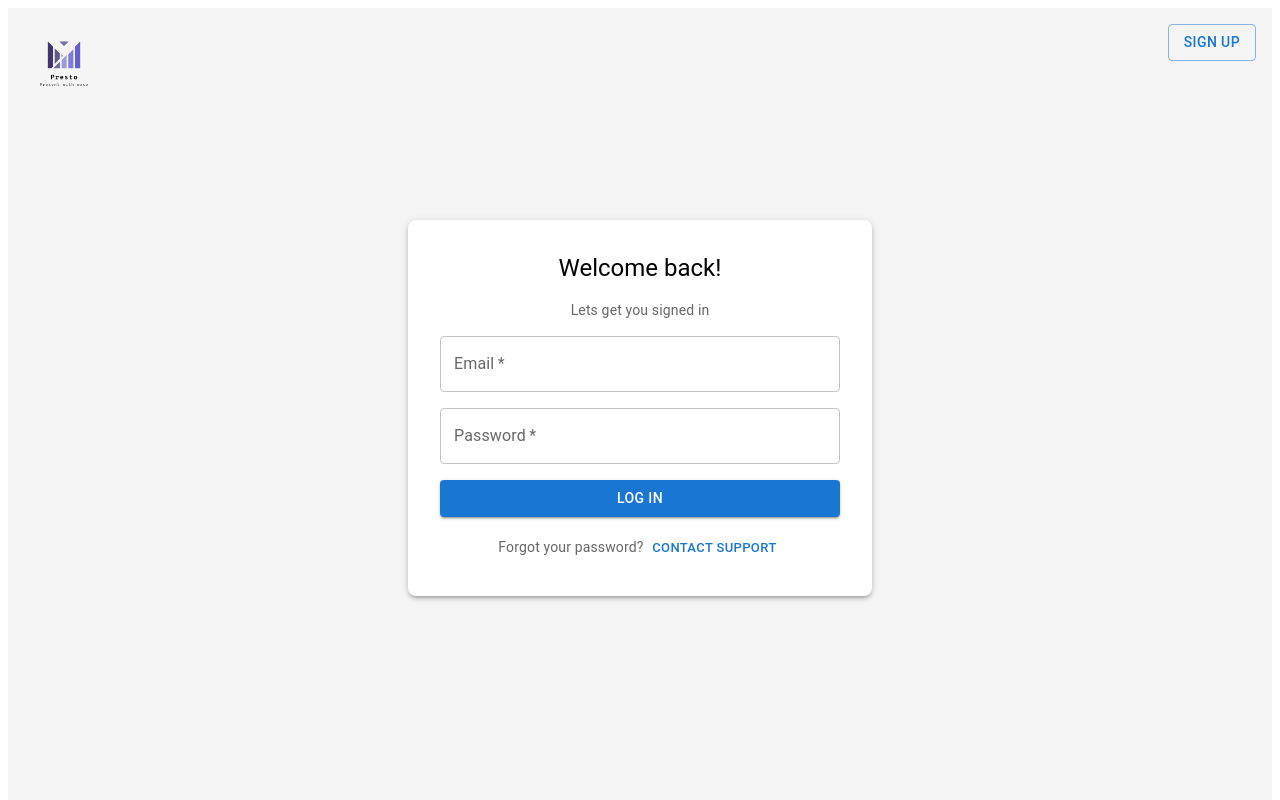
Scenario: SignInForm Component › displays an error message on failed login
This screenshot has width=1280, height=800.
Type "test@example.com" into the field labelled "Email *" at point(640, 364), box top-left (440, 336), bottom-right (840, 392)
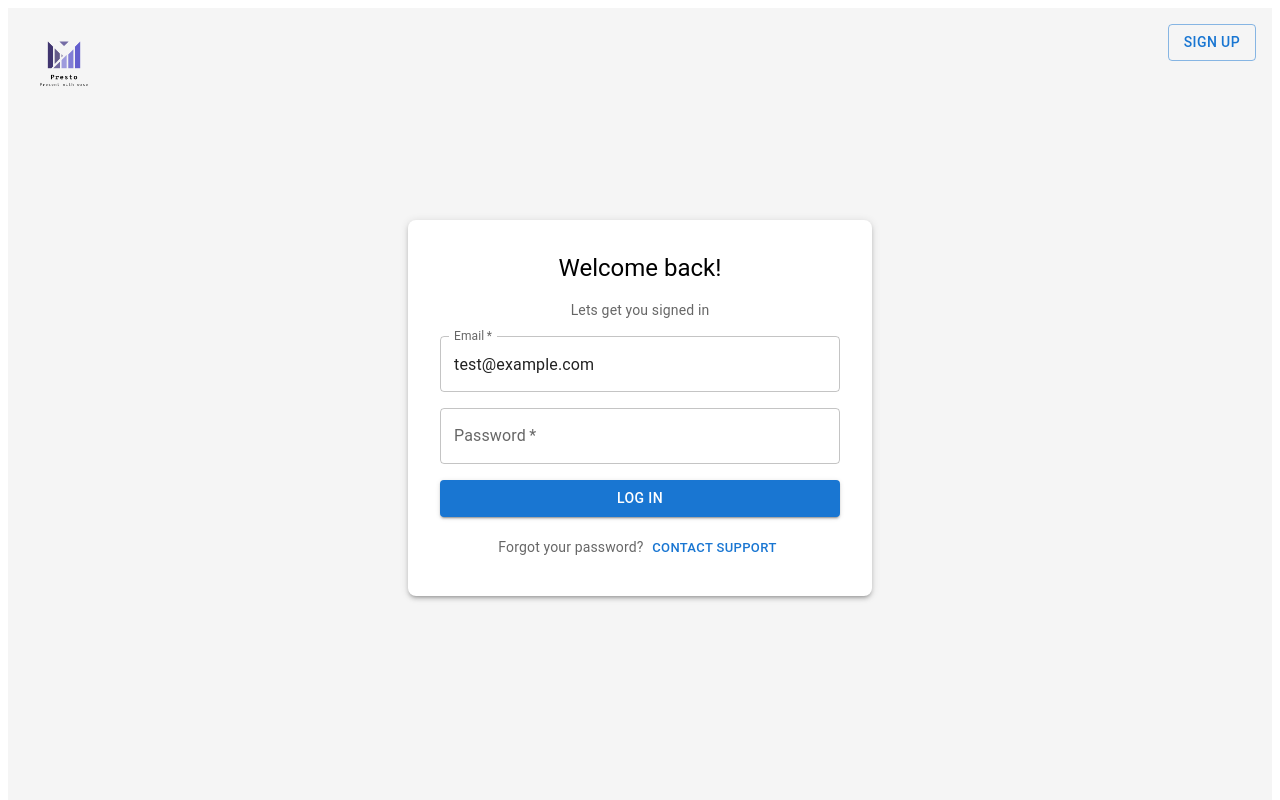
Type "password" into the password field labelled "Password *" at point(640, 436), box top-left (440, 408), bottom-right (840, 464)
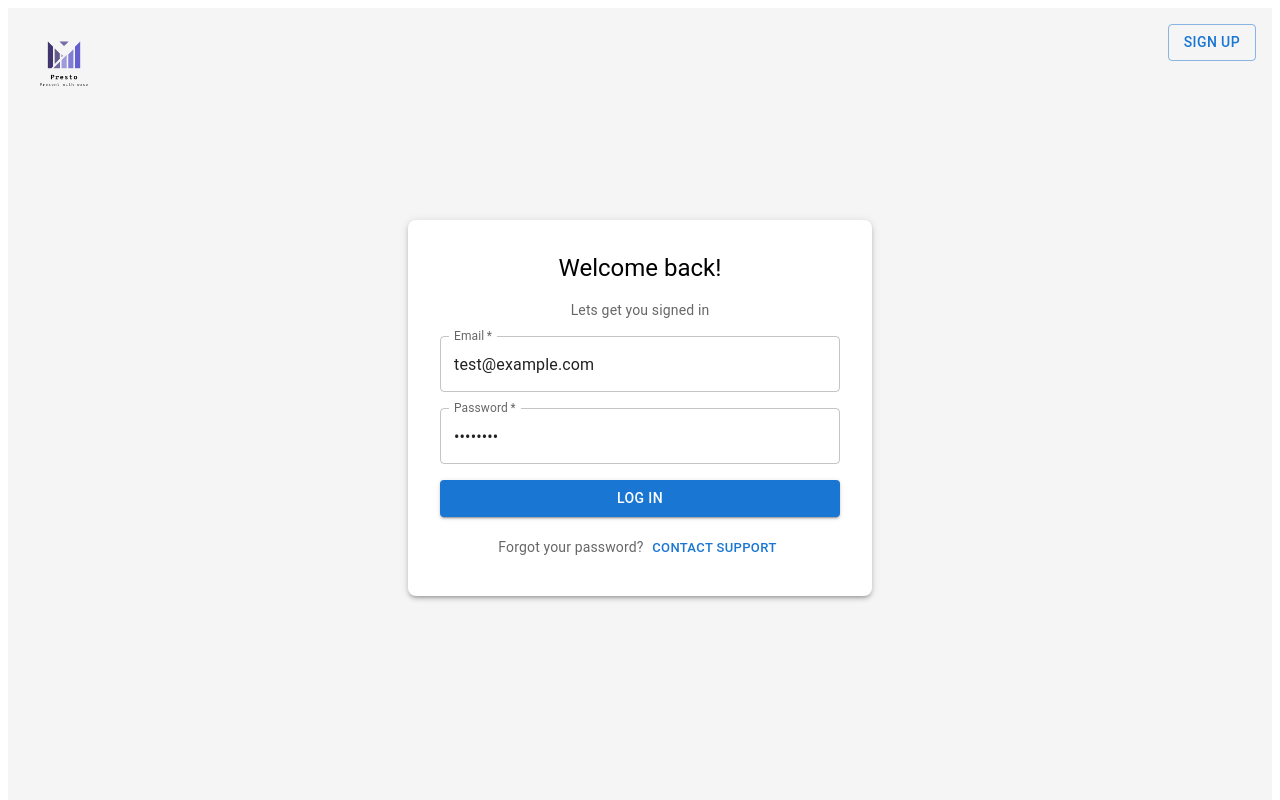
Click the button "Log in" at point(640, 499), box top-left (440, 480), bottom-right (840, 517)
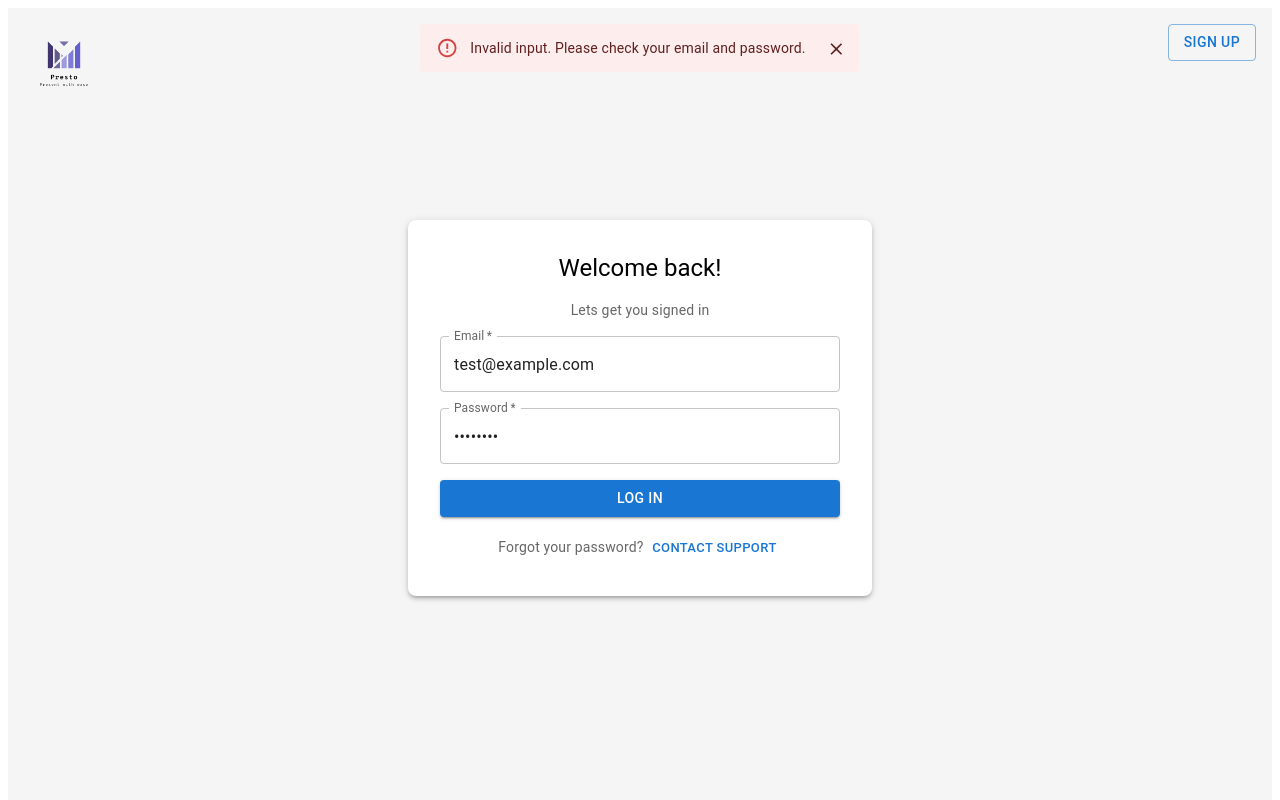
Expected: the text "Invalid input. Please check your email and password." is shown, top-left (470, 40), bottom-right (806, 56)
